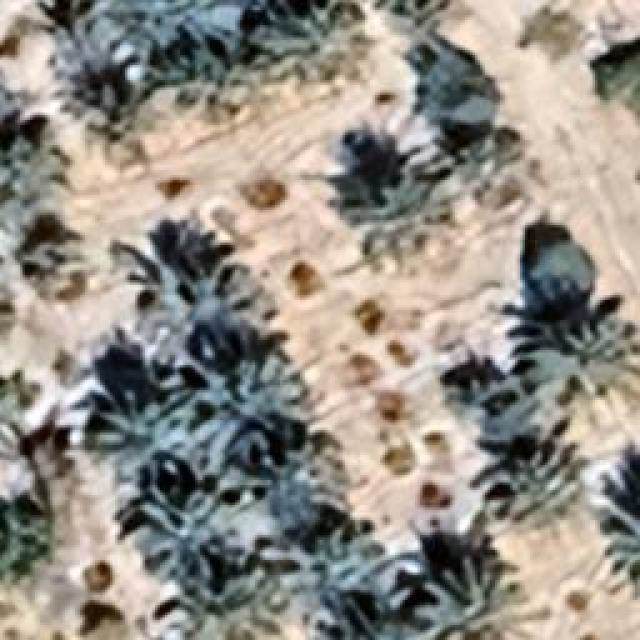PalmTree: (58, 66, 224, 607), (272, 525, 390, 625), (412, 550, 546, 638), (512, 285, 630, 383), (137, 254, 255, 342), (140, 485, 235, 585), (95, 388, 190, 482), (82, 70, 170, 168), (258, 5, 372, 80), (196, 362, 302, 442), (168, 35, 264, 118), (364, 162, 458, 240), (445, 353, 524, 434), (75, 0, 180, 60), (258, 454, 342, 526), (14, 223, 90, 299), (590, 12, 638, 120), (502, 460, 582, 522), (0, 485, 50, 570), (518, 0, 588, 58), (0, 370, 48, 450), (600, 502, 638, 600), (376, 0, 456, 34), (314, 616, 427, 640), (310, 621, 430, 640), (0, 258, 15, 366)
